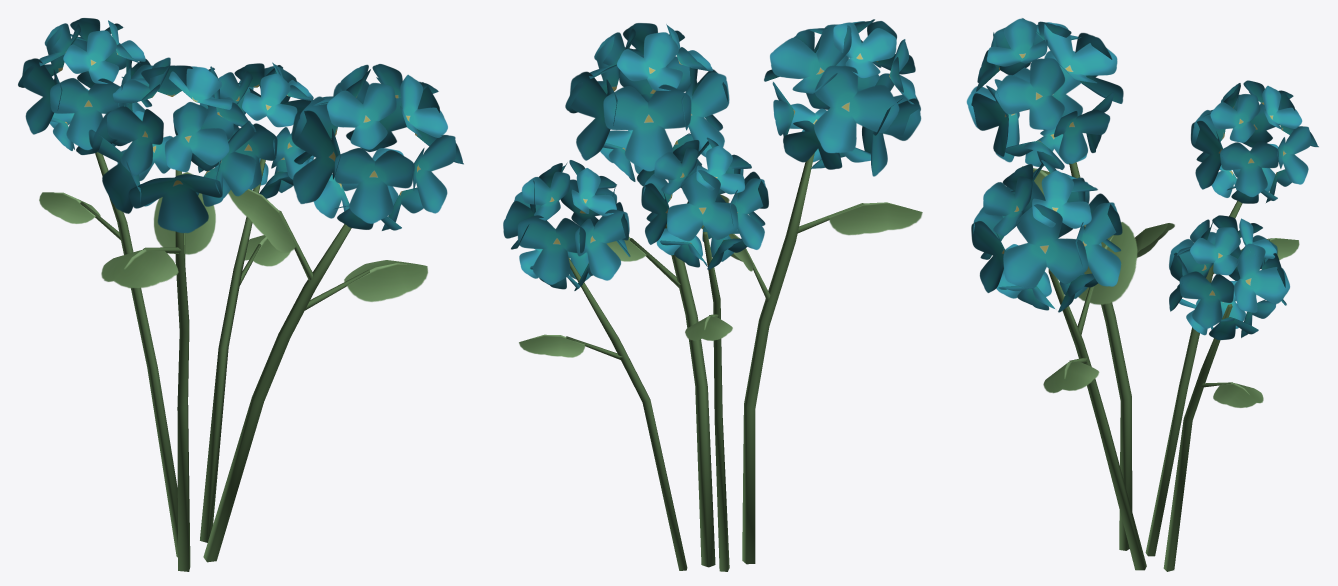
Rendered from Flower_1_Clump.gltf.
3 views of the same model, side by side, from view 1: azimuth 30°, elevation 25°; view 2: azimuth 150°, elevation 25°; view 3: azimuth 270°, elevation 25° (orthographic). The views are drawn at different scales.
Parts seen in each view (by area): view 1: Flower_1_Clump; view 2: Flower_1_Clump; view 3: Flower_1_Clump.
Boxes of the visible parts, x1,y1,x2,y2 form: Flower_1_Clump: (18,18,463,571); Flower_1_Clump: (503,19,922,571); Flower_1_Clump: (966,18,1318,571).
Size of the model in its own units: 0.4711 by 0.6713 by 0.4352.
1 material, 1 textured.
